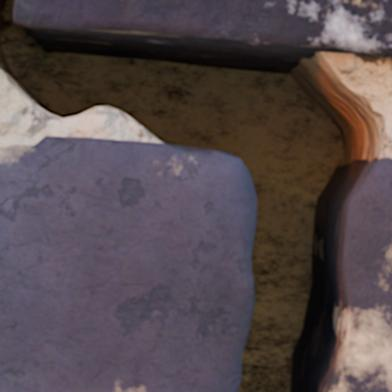brick: (15, 0, 391, 56)
broken_brick: (0, 136, 255, 391), (337, 158, 391, 391)
crack: (0, 0, 389, 391)
